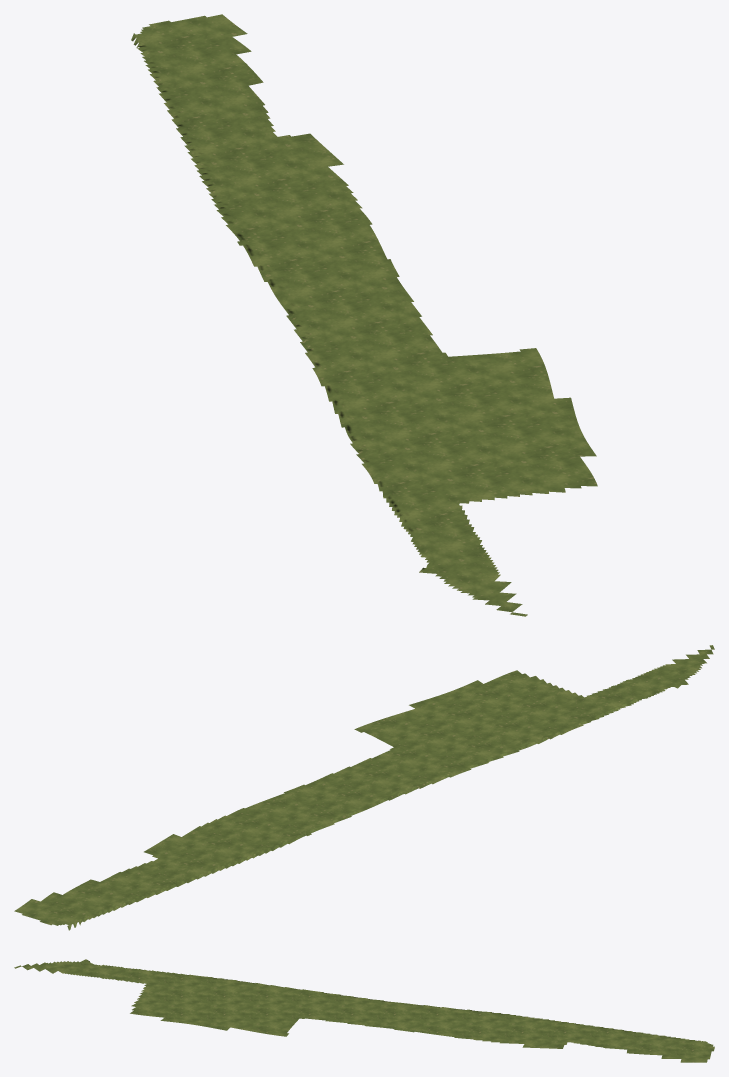
File: ArahaTerrain_Lawn.gltf
The picture shows the model from 3 angles, top to bottom: view 1: azimuth 30°, elevation 25°; view 2: azimuth 150°, elevation 25°; view 3: azimuth 270°, elevation 25°; orthographic projection. The views are drawn at different scales.
Parts seen in each view (by area): view 1: ArahaTerrain_Lawn; view 2: ArahaTerrain_Lawn; view 3: ArahaTerrain_Lawn.
Part boxes in pixels (left/top/right/bottom): ArahaTerrain_Lawn: left=131, top=14, right=597, bottom=616; ArahaTerrain_Lawn: left=14, top=645, right=714, bottom=930; ArahaTerrain_Lawn: left=14, top=959, right=714, bottom=1062.
Bounding box in the file's own units: 230 × 3.41 × 659.
1 material, 1 textured.
